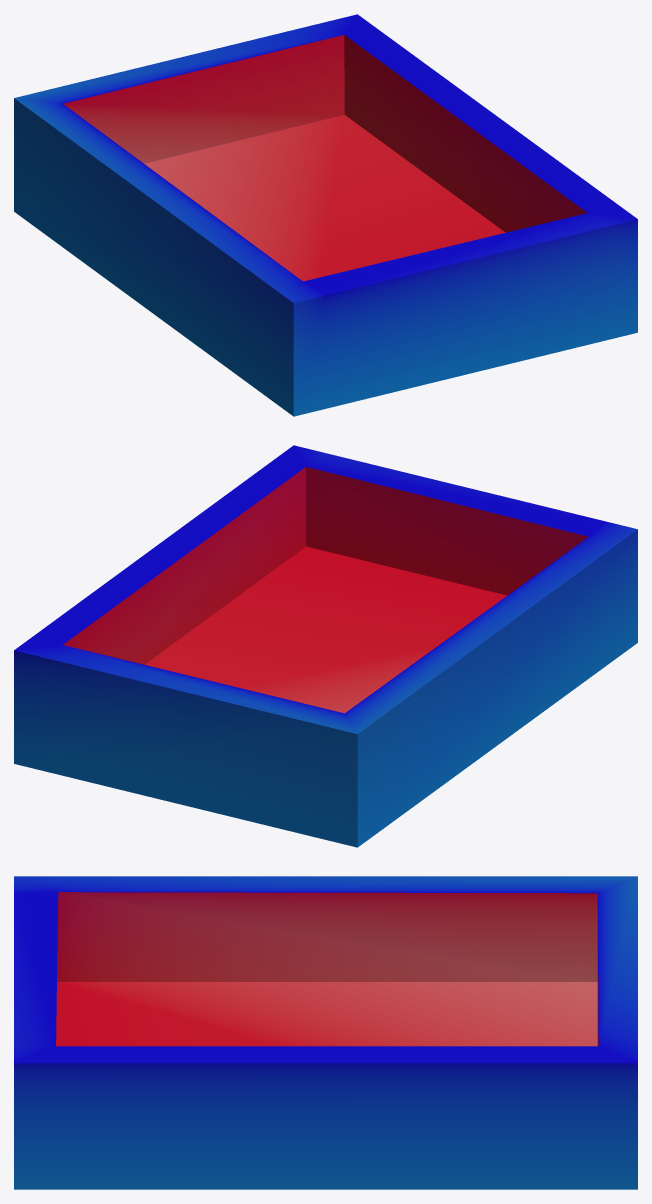
The picture shows the model from 3 angles, top to bottom: view 1: azimuth 30°, elevation 25°; view 2: azimuth 150°, elevation 25°; view 3: azimuth 270°, elevation 25°; orthographic projection. The views are drawn at different scales.
Bounding box in the file's own units: 6.6 × 2.08 × 9.3.
